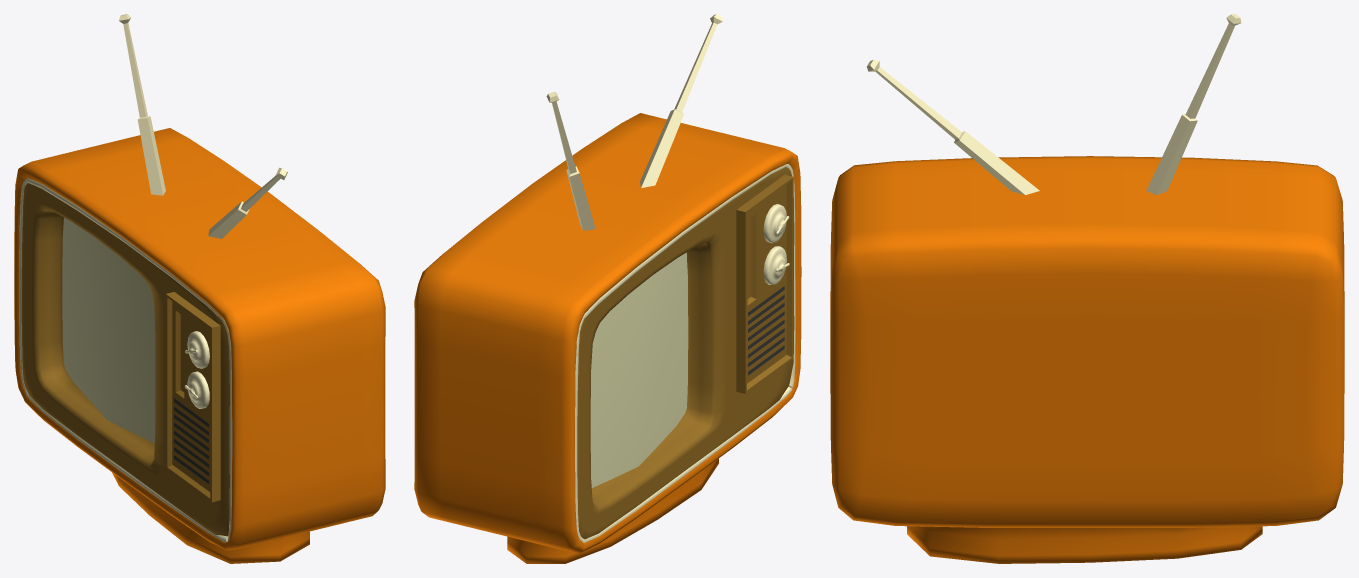
The model's file is old-tv.glb.
3 renders of one model, left to right at view 1: azimuth 30°, elevation 25°; view 2: azimuth 150°, elevation 25°; view 3: azimuth 270°, elevation 25°, orthographic. The views are drawn at different scales.
Visible parts, largest first — view 1: Cube 61; view 2: Cube 61; view 3: Cube 61.
Part boxes in pixels (x1=…): Cube 61: x1=14, y1=14, x2=385, y2=563; Cube 61: x1=414, y1=14, x2=801, y2=563; Cube 61: x1=830, y1=14, x2=1344, y2=563.
Bounding box in the file's own units: 6.58 × 16.73 × 15.09.
